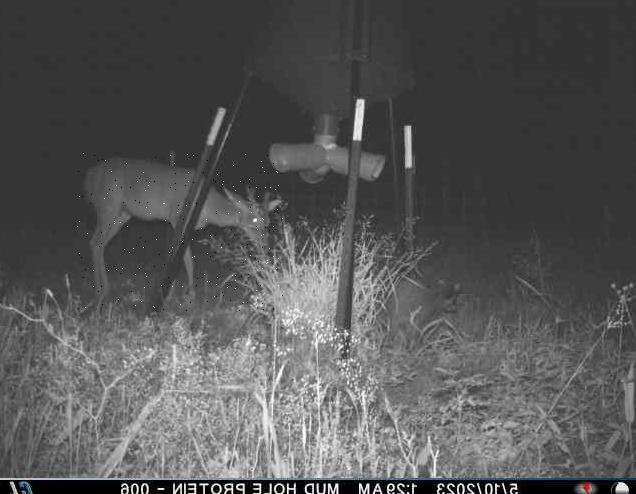Deer: (77, 152, 284, 311)
